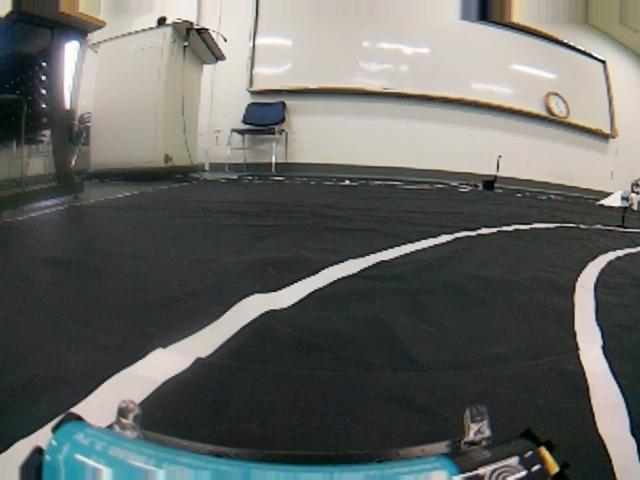right: (5, 217, 640, 480)
